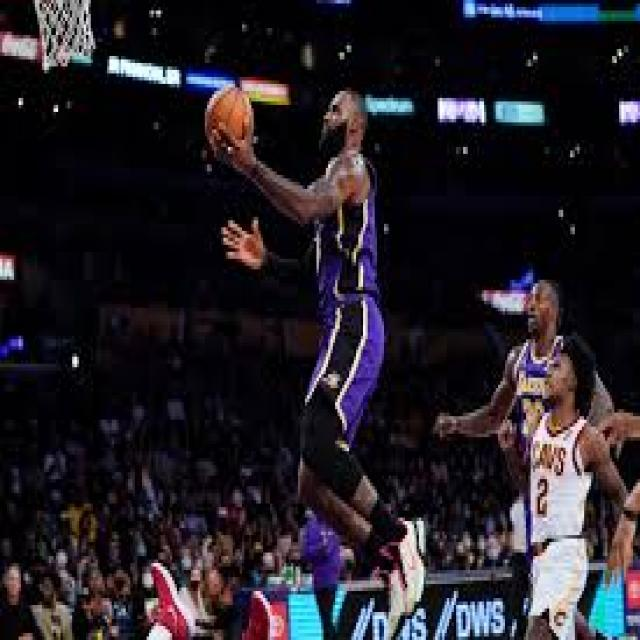rim: (202, 84, 254, 154)
